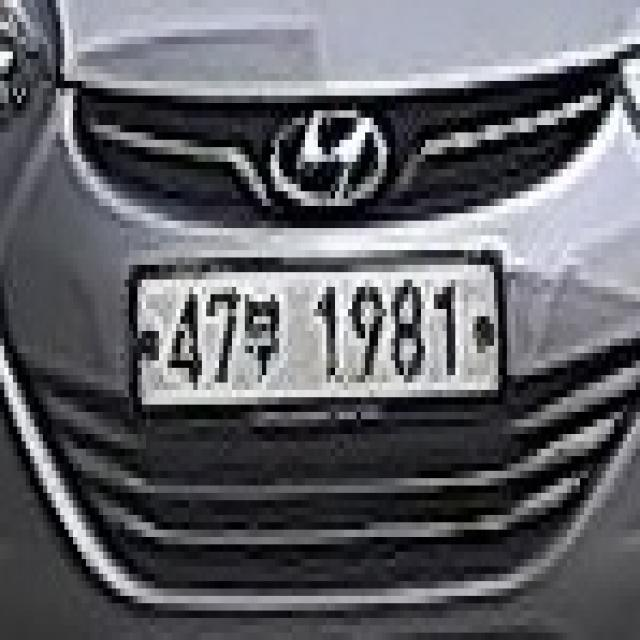1: (432, 283, 464, 387), (314, 286, 344, 396)
4: (162, 288, 207, 396)
7: (208, 286, 240, 394)
8: (387, 274, 428, 394)
9: (350, 284, 384, 395)
bu: (242, 288, 284, 386)
license_plate: (120, 247, 516, 408)
